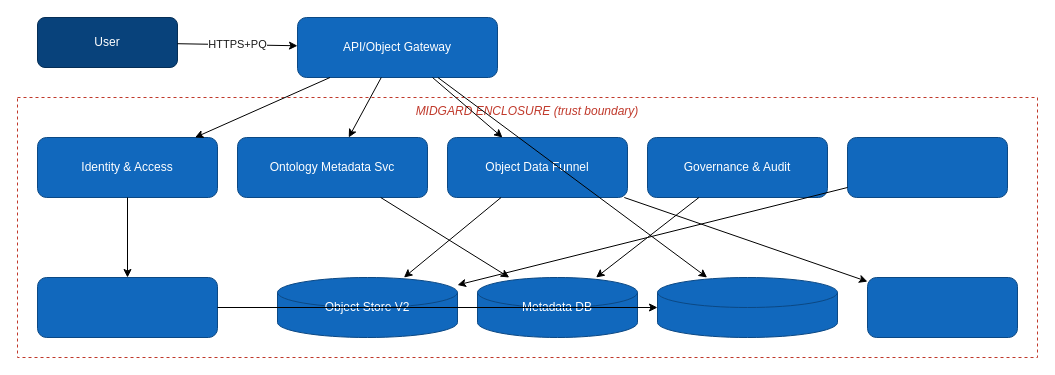
This 1055x375 diagram has some shape labels left out. Here are the shapes that lost their labels. From the top down, the centre of each, then its label:
At [927,167]: "Compute Mesh".
At [127,307]: "PQ Key Mgmt (Seal)".
At [747,307]: "Artifact/Blob Store".
At [942,307]: "Event Bus".
